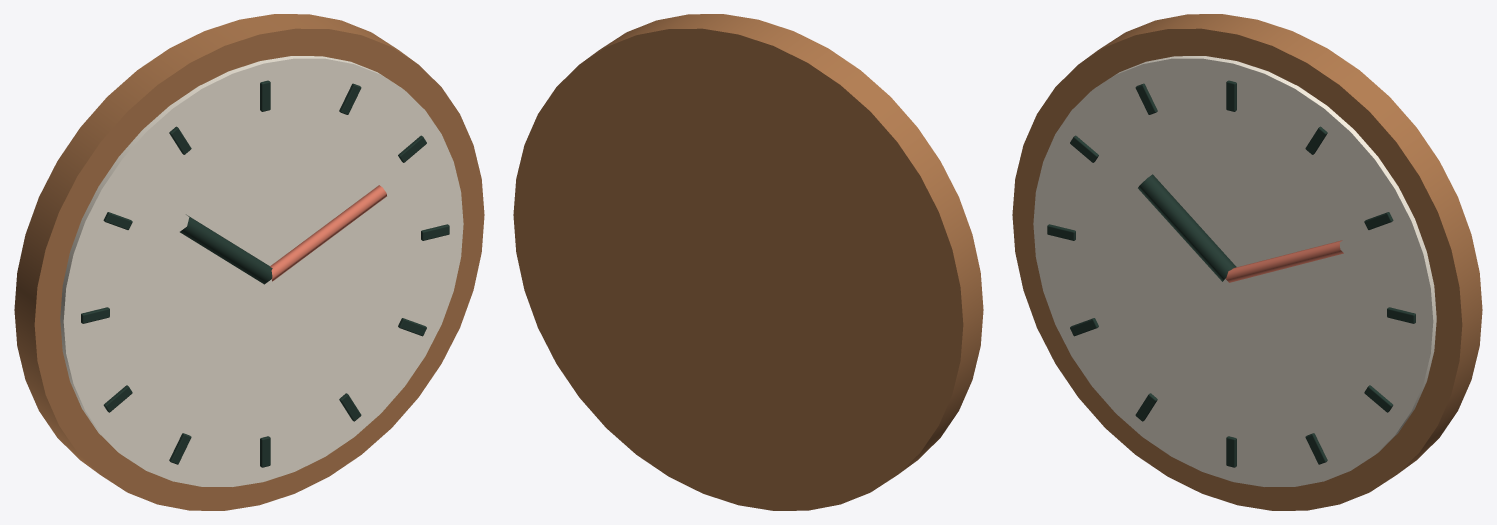
File: wall-clock.glb
3 renders of one model, left to right at view 1: azimuth 30°, elevation 25°; view 2: azimuth 150°, elevation 25°; view 3: azimuth 330°, elevation 25°, orthographic.
Parts seen in each view (by area): view 1: wall_clock; view 2: wall_clock; view 3: wall_clock.
Part boxes in pixels (<box>): wall_clock: <box>14,14,484,510</box>; wall_clock: <box>513,14,983,510</box>; wall_clock: <box>1012,14,1482,510</box>.
Size of the model in its own units: 0.9 by 0.9 by 0.113.
